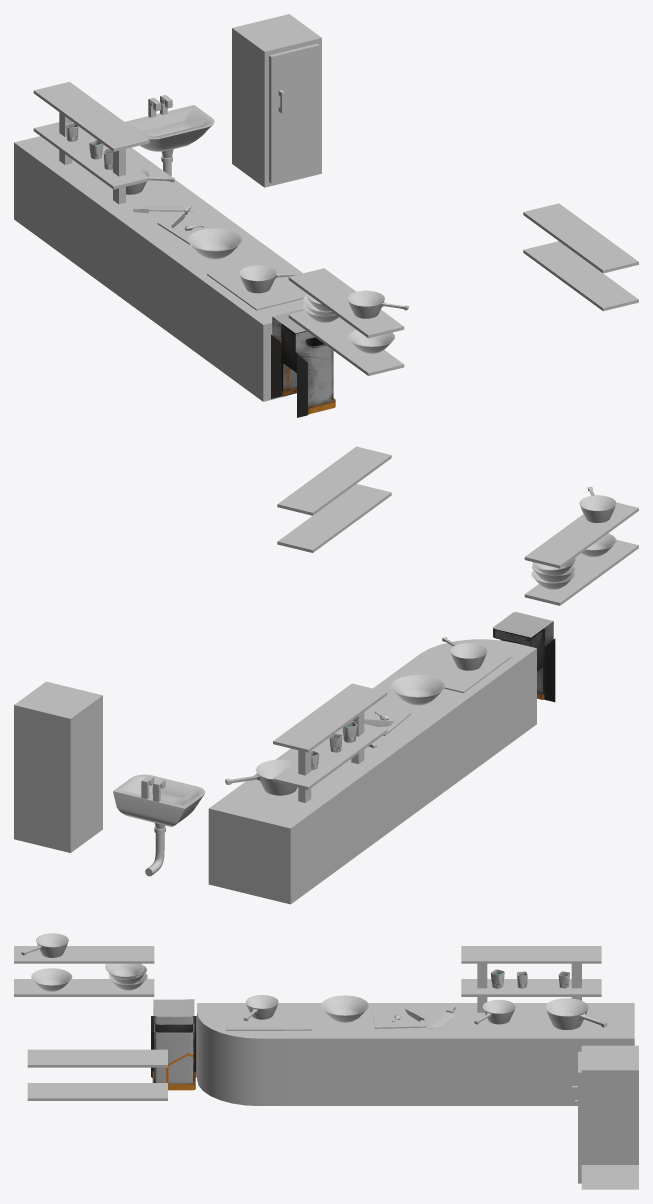
The model's file is Kitchen.fbx.
3 views of the same model, one above another, from view 1: azimuth 30°, elevation 25°; view 2: azimuth 150°, elevation 25°; view 3: azimuth 270°, elevation 25° (orthographic). The views are drawn at different scales.
Parts seen in each view (by area): view 1: Cube.003, Cube.017, Cube.015, Cube.014, Bin, Cube.016, Cube.009, Cube.011, Cube.022, Cube.004, Cube.018, Cube.006; view 2: Cube.003, Cube.017, Cube.015, Cube.014, Cube.016, Bin, Cube.009, Cube.011, Cube.012, Cube.004, Cube.022; view 3: Cube.003, Cube.017, Cube.015, Cube.014, Bin, Cube.009, Cube.012, Cube.011, Cube.006, Cube.018, Cube.022, Cube.007 (+2 smaller).
Boxes of the visible parts, x1,y1,x2,y2 form: Cube.003: (14,82,303,401); Cube.017: (232,14,321,187); Cube.015: (523,203,638,311); Cube.014: (288,268,404,375); Bin: (271,309,335,417); Cube.016: (125,95,214,176); Cube.009: (207,260,306,310); Cube.011: (188,228,242,259); Cube.022: (347,290,408,318); Cube.004: (239,265,301,293); Cube.018: (348,329,394,353); Cube.006: (157,214,211,244); Cube.003: (208,639,536,904); Cube.017: (14,681,102,852); Cube.015: (277,446,391,552); Cube.014: (524,502,638,605); Cube.016: (113,774,205,876); Bin: (493,612,555,702); Cube.009: (414,643,511,693); Cube.011: (391,674,444,705); Cube.012: (225,759,297,795); Cube.004: (442,637,487,670); Cube.022: (579,486,616,522); Cube.003: (197,946,634,1105); Cube.017: (572,1045,638,1189); Cube.015: (27,1049,167,1100); Cube.014: (14,946,154,996); Bin: (151,999,196,1090); Cube.009: (225,1005,311,1030); Cube.012: (545,998,607,1029); Cube.011: (321,995,368,1022); Cube.006: (372,1012,426,1028); Cube.018: (31,968,72,991); Cube.022: (21,933,68,957); Cube.007: (474,999,515,1024).
Bounding box in the file's own units: 438 × 246 × 967.
